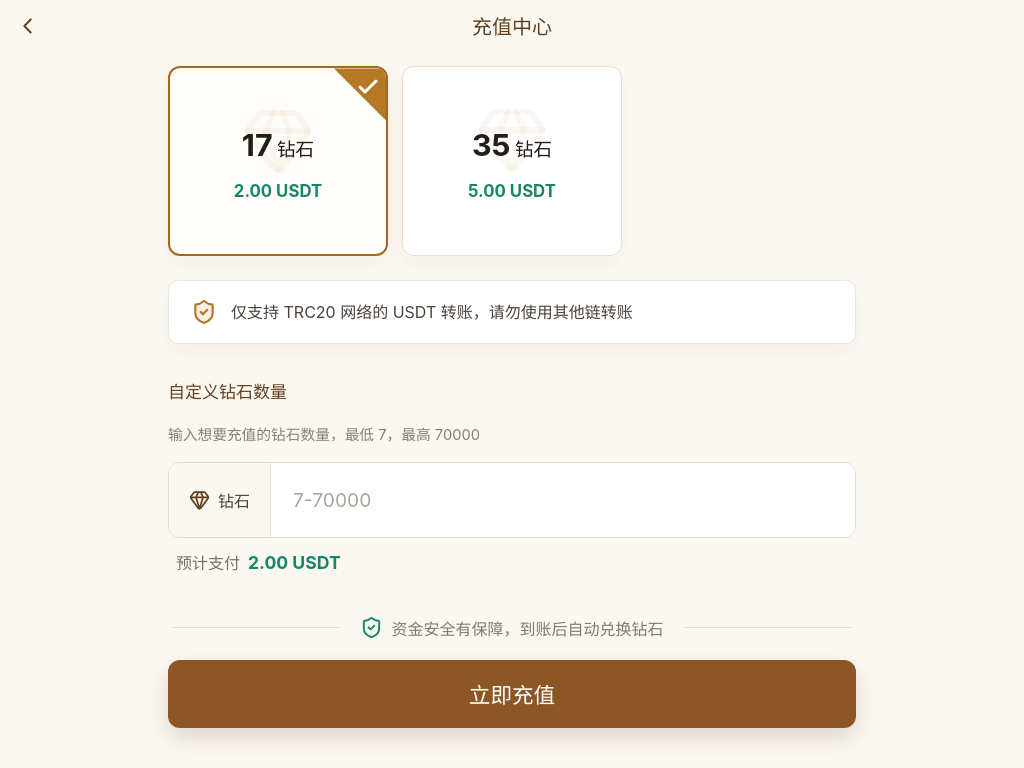
Test case: RechargePage › updates the USDT amount immediately and never requests a quote
(page scrolled)
Type "7" into the field named "自定义钻石数量" at (563, 500), box [271,463,855,537]
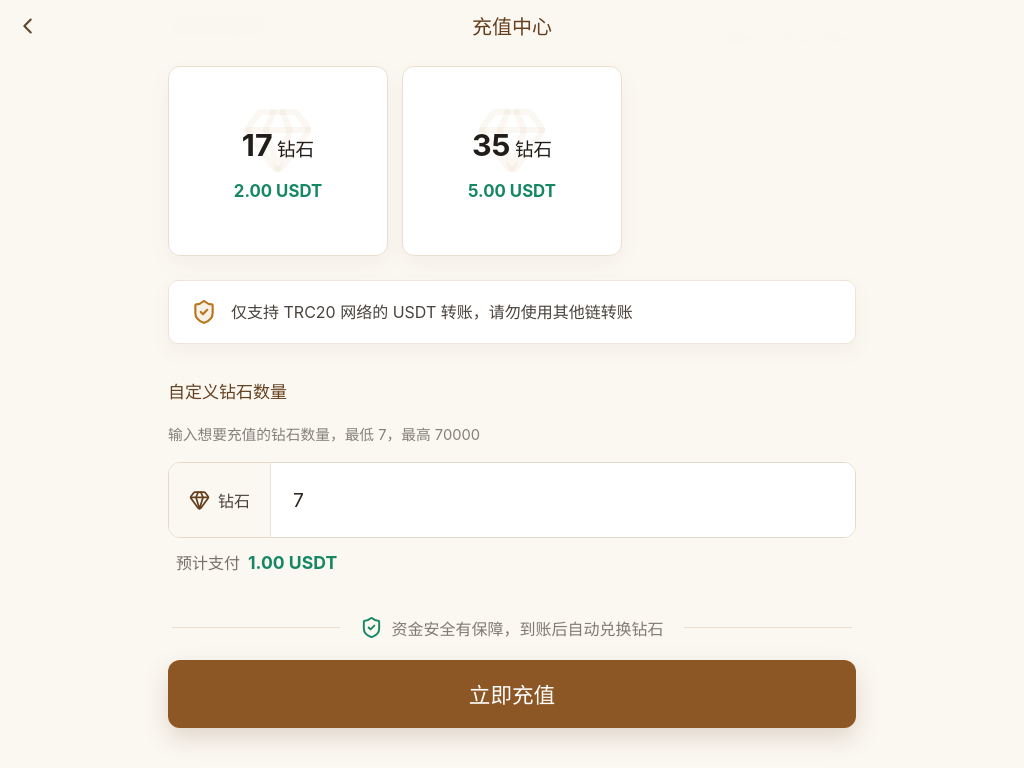
expect the text "1.00 USDT" is shown: met, box [248,552,337,573]
Replace the text in the field named "自定义钻石数量" with "8" at (563, 500), box [271,463,855,537]
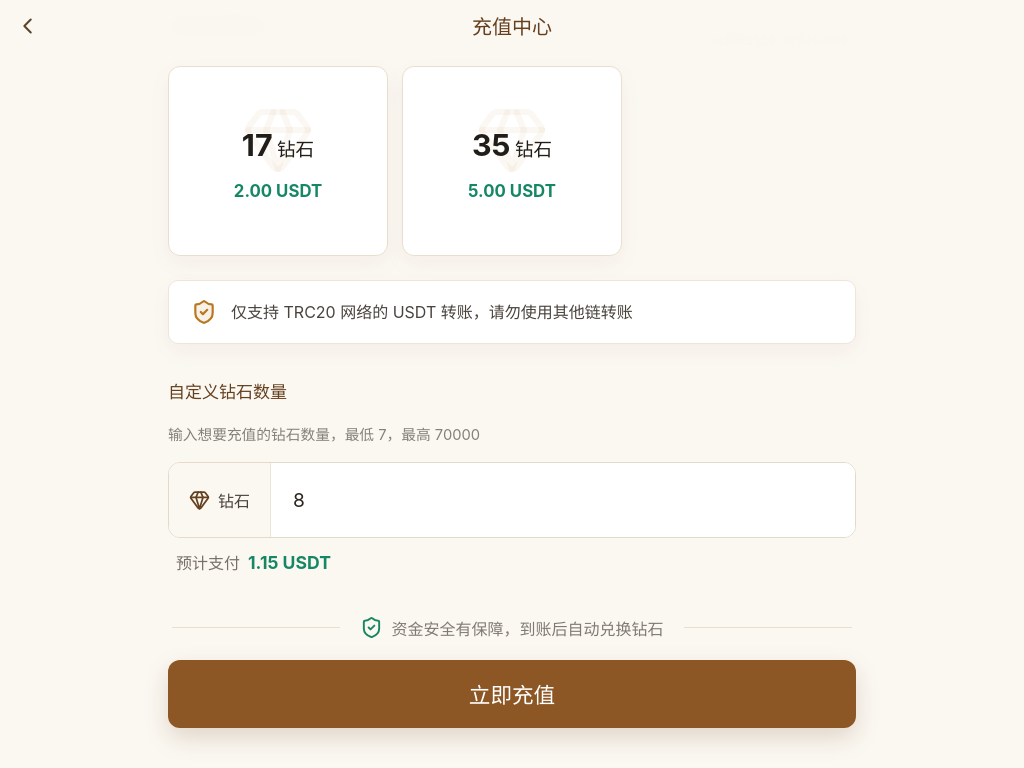
expect the text "1.15 USDT" is shown: met, box [248,552,331,573]
expect the text "1.00 USDT" is gone: met
